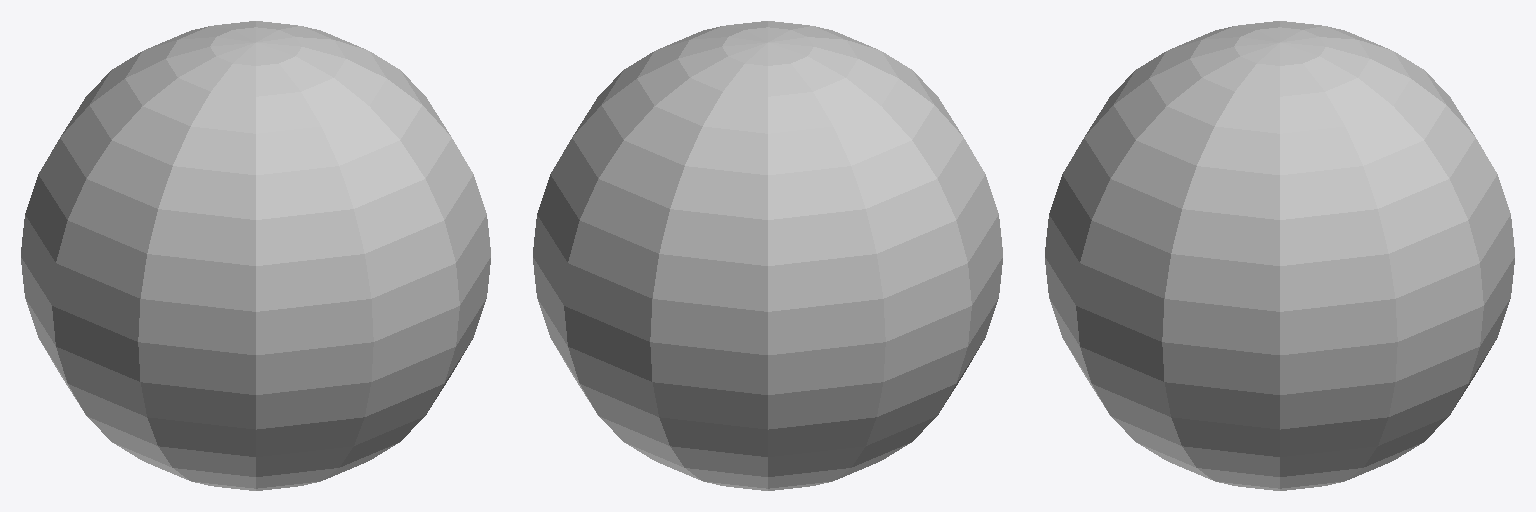
The model's file is escudo.obj.
3 views of the same model, side by side, from view 1: azimuth 30°, elevation 25°; view 2: azimuth 150°, elevation 25°; view 3: azimuth 270°, elevation 25° (orthographic).
Visible parts, largest first — view 1: Sphere; view 2: Sphere; view 3: Sphere.
Boxes of the visible parts, <box> form: Sphere: <box>21,21,490,490</box>; Sphere: <box>533,21,1002,490</box>; Sphere: <box>1045,21,1514,490</box>.
Bounding box in the file's own units: 2 × 2 × 2.